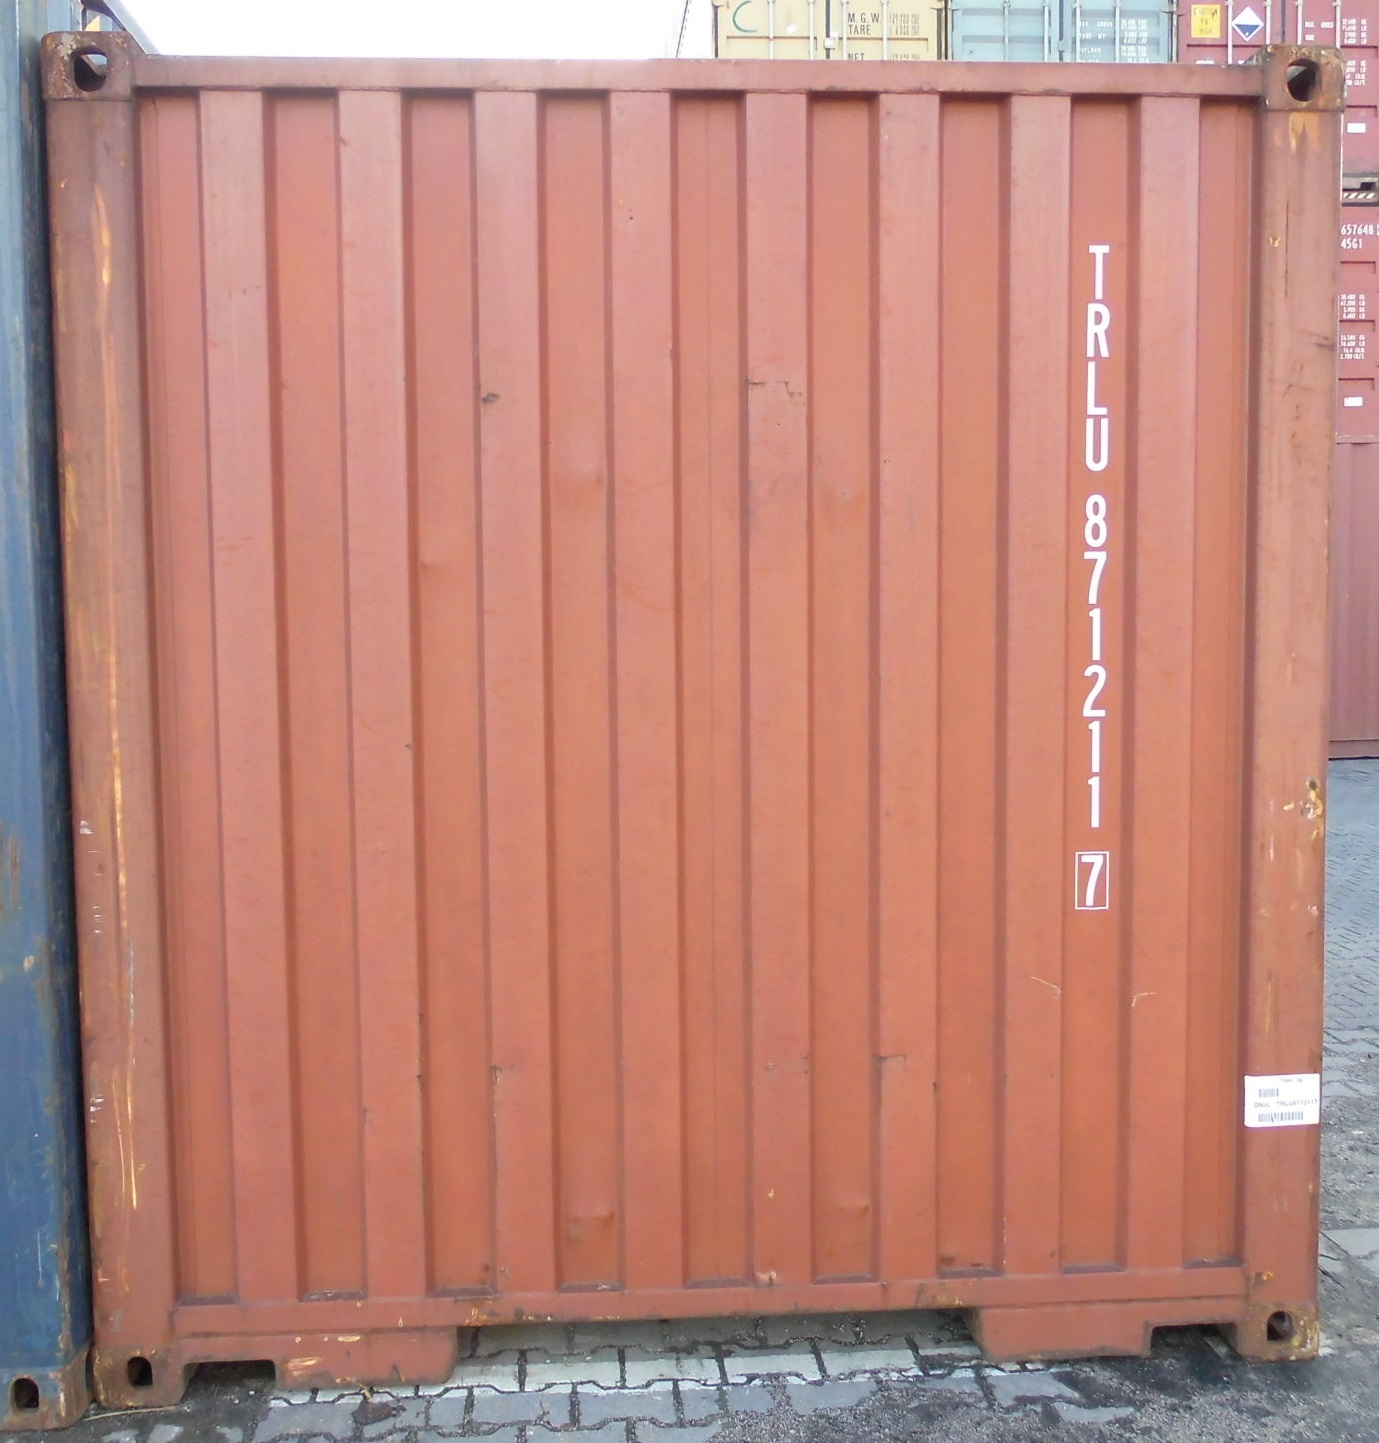container_no_door: (35, 27, 1329, 1346)
